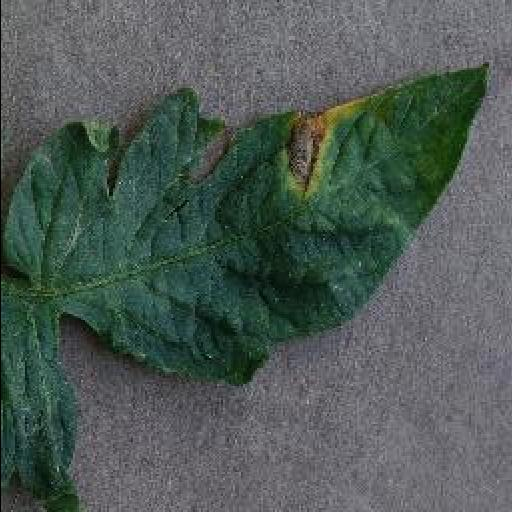disease_tomato: (0, 58, 490, 390)
